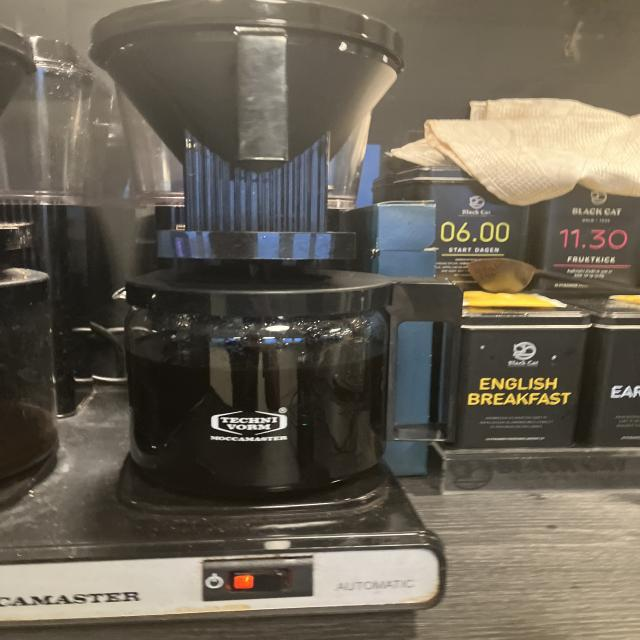coffee: (91, 259, 402, 506)
